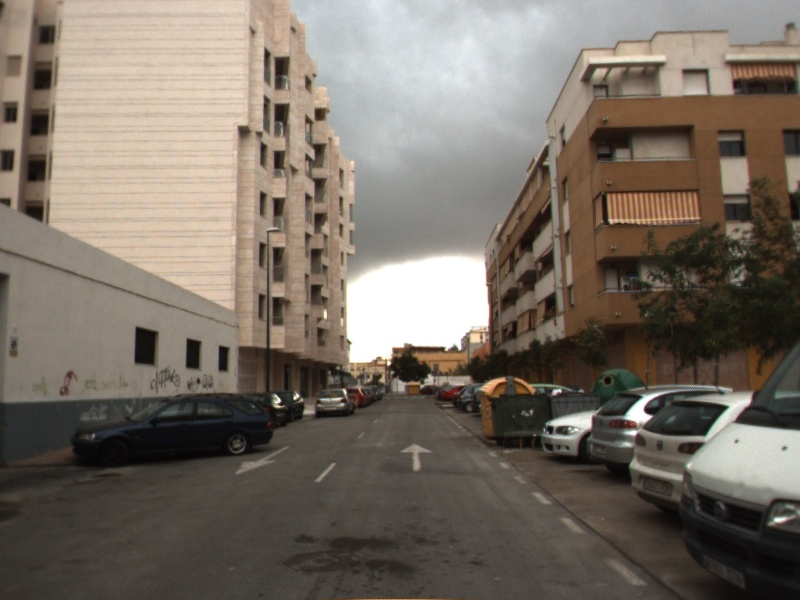STRAIGHT: (398, 440, 436, 473)
